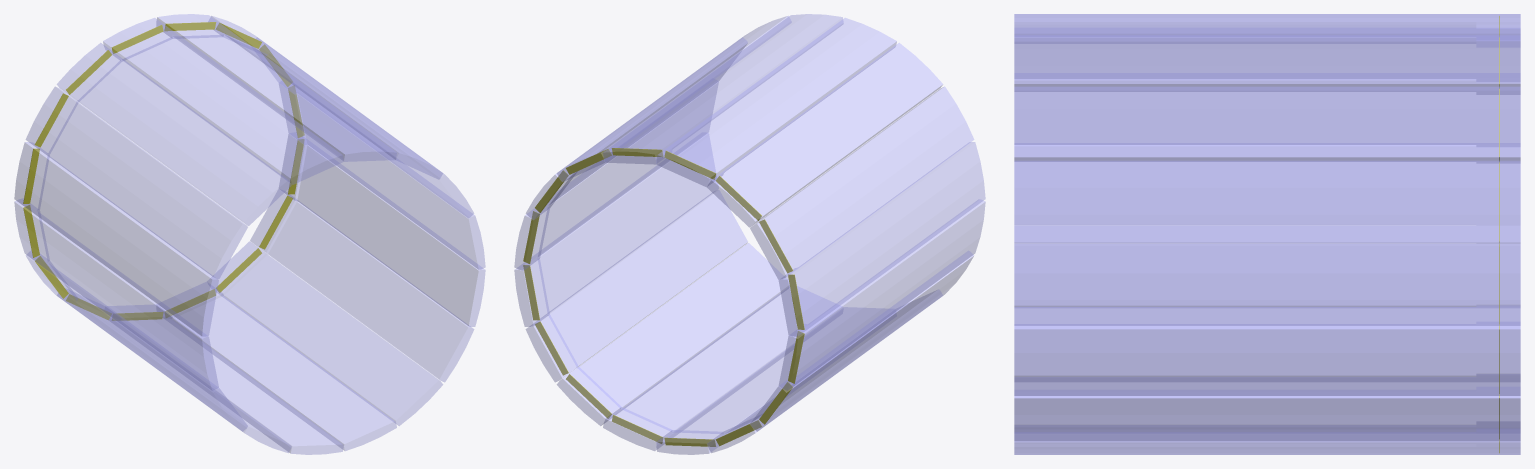
The model's file is Belle2Geo_EventDisplay.gltf.
3 views of the same model, side by side, from view 1: azimuth 30°, elevation 25°; view 2: azimuth 150°, elevation 25°; view 3: azimuth 270°, elevation 25° (orthographic). The views are drawn at different scales.
Visible parts, largest first — view 1: TOPEnvelopeModule15_15, TOPEnvelopeModule07_7, TOPEnvelopeModule14_14, TOPEnvelopeModule06_6, TOPEnvelopeModule08_8, TOPEnvelopeModule16_16, TOPEnvelopeModule05_5, TOPEnvelopeModule13_13, TOPEnvelopeModule09_9, TOPEnvelopeModule04_4, TOPEnvelopeModule01_1, TOPEnvelopeModule12_12 (+4 smaller); view 2: TOPEnvelopeModule07_7, TOPEnvelopeModule06_6, TOPEnvelopeModule15_15, TOPEnvelopeModule14_14, TOPEnvelopeModule08_8, TOPEnvelopeModule05_5, TOPEnvelopeModule16_16, TOPEnvelopeModule13_13, TOPEnvelopeModule09_9, TOPEnvelopeModule04_4, TOPEnvelopeModule01_1, TOPEnvelopeModule12_12 (+4 smaller); view 3: TOPEnvelopeModule02_2, TOPEnvelopeModule01_1, TOPEnvelopeModule10_10, TOPEnvelopeModule09_9, TOPEnvelopeModule03_3, TOPEnvelopeModule16_16, TOPEnvelopeModule11_11, TOPEnvelopeModule08_8, TOPEnvelopeModule04_4, TOPEnvelopeModule15_15, TOPEnvelopeModule12_12, TOPEnvelopeModule07_7 (+4 smaller).
Boxes of the visible parts, left/top/right/bottom form: TOPEnvelopeModule15_15: left=250, top=189, right=473, bottom=382; TOPEnvelopeModule07_7: left=26, top=86, right=247, bottom=278; TOPEnvelopeModule14_14: left=207, top=241, right=442, bottom=425; TOPEnvelopeModule06_6: left=57, top=43, right=291, bottom=225; TOPEnvelopeModule08_8: left=14, top=142, right=218, bottom=336; TOPEnvelopeModule16_16: left=279, top=134, right=485, bottom=326; TOPEnvelopeModule05_5: left=103, top=18, right=343, bottom=184; TOPEnvelopeModule13_13: left=157, top=282, right=396, bottom=450; TOPEnvelopeModule09_9: left=14, top=198, right=218, bottom=390; TOPEnvelopeModule04_4: left=156, top=14, right=396, bottom=161; TOPEnvelopeModule01_1: left=279, top=83, right=485, bottom=269; TOPEnvelopeModule12_12: left=108, top=304, right=343, bottom=454; TOPEnvelopeModule07_7: left=750, top=86, right=973, bottom=279; TOPEnvelopeModule06_6: left=707, top=43, right=942, bottom=227; TOPEnvelopeModule15_15: left=526, top=190, right=747, bottom=382; TOPEnvelopeModule14_14: left=557, top=243, right=789, bottom=425; TOPEnvelopeModule08_8: left=779, top=142, right=985, bottom=336; TOPEnvelopeModule05_5: left=656, top=18, right=896, bottom=186; TOPEnvelopeModule16_16: left=514, top=133, right=718, bottom=326; TOPEnvelopeModule13_13: left=603, top=286, right=842, bottom=450; TOPEnvelopeModule09_9: left=779, top=199, right=985, bottom=390; TOPEnvelopeModule04_4: left=603, top=14, right=843, bottom=164; TOPEnvelopeModule01_1: left=514, top=81, right=718, bottom=270; TOPEnvelopeModule12_12: left=656, top=307, right=888, bottom=454; TOPEnvelopeModule02_2: left=1014, top=161, right=1520, bottom=243; TOPEnvelopeModule01_1: left=1014, top=244, right=1520, bottom=325; TOPEnvelopeModule10_10: left=1014, top=225, right=1520, bottom=306; TOPEnvelopeModule09_9: left=1014, top=145, right=1520, bottom=224; TOPEnvelopeModule03_3: left=1014, top=87, right=1520, bottom=163; TOPEnvelopeModule16_16: left=1014, top=322, right=1520, bottom=395; TOPEnvelopeModule11_11: left=1014, top=305, right=1520, bottom=376; TOPEnvelopeModule08_8: left=1014, top=79, right=1520, bottom=146; TOPEnvelopeModule04_4: left=1014, top=35, right=1520, bottom=94; TOPEnvelopeModule15_15: left=1014, top=387, right=1520, bottom=440; TOPEnvelopeModule12_12: left=1014, top=374, right=1520, bottom=424; TOPEnvelopeModule07_7: left=1014, top=44, right=1520, bottom=81.
Bounding box in the file's own units: 249 × 249 × 286.
